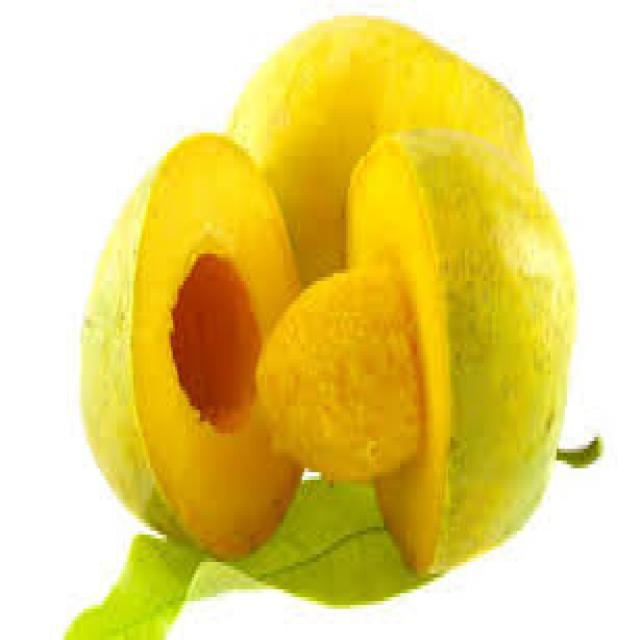organic waste: (250, 129, 578, 593), (82, 129, 308, 558), (223, 12, 534, 304), (64, 531, 260, 636), (260, 476, 432, 585)
